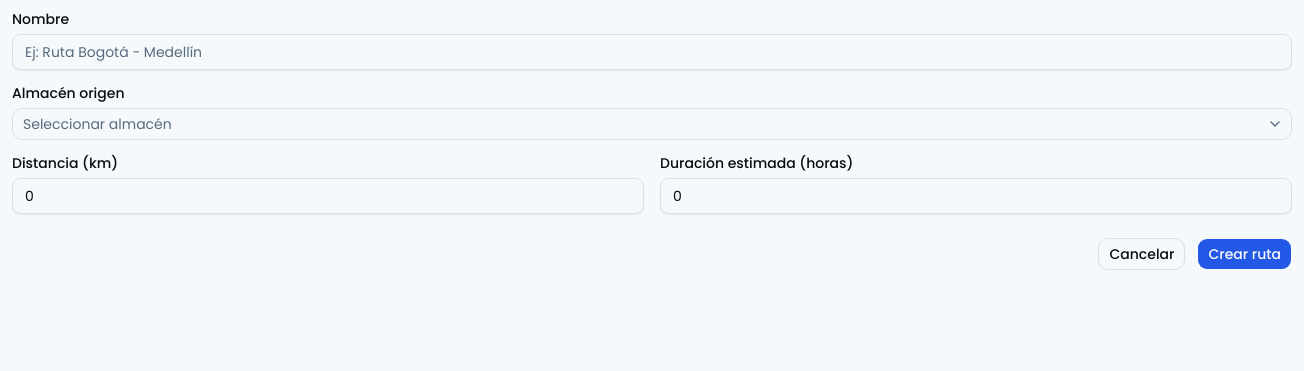
it: RouteForm — validación › muestra error en nombre cuando está vacío al enviar
This screenshot has width=1304, height=371.
What coordinates should you click on to do the following:
click the button "Crear ruta"
I would click on:
 (1245, 254)
Its box is 1198,238 -> 1292,270.
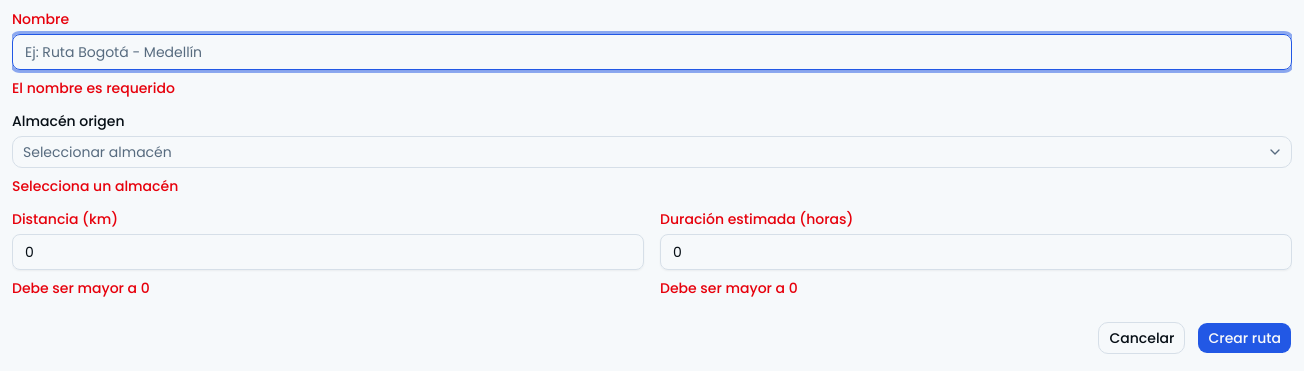
Now the text "El nombre es requerido" is shown, box 12,78 -> 175,98
